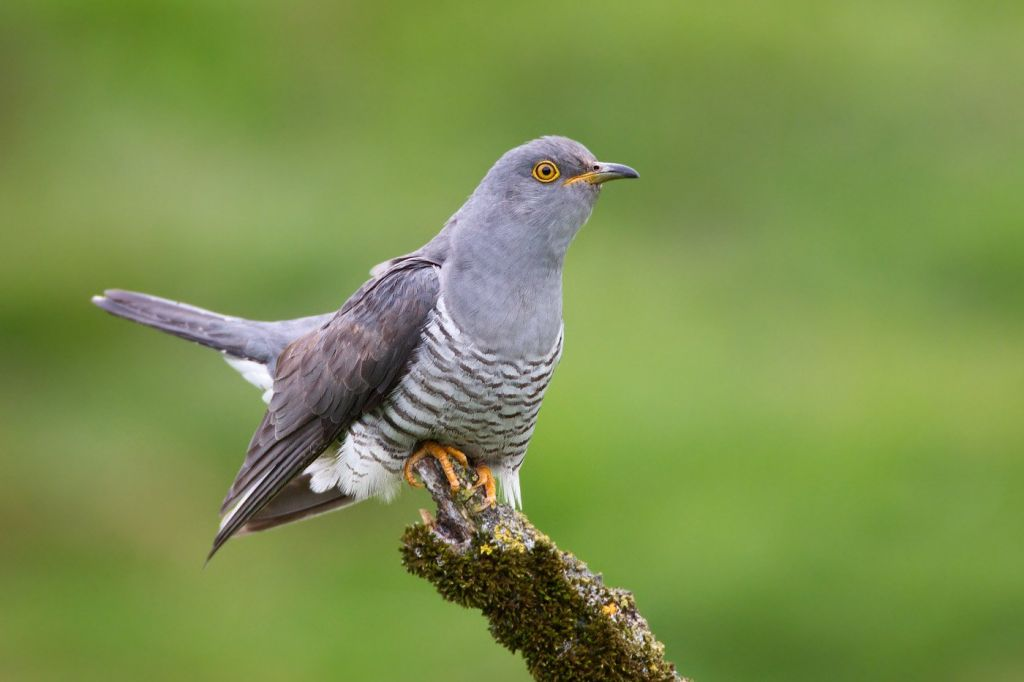кукушка: (83, 56, 656, 583)
